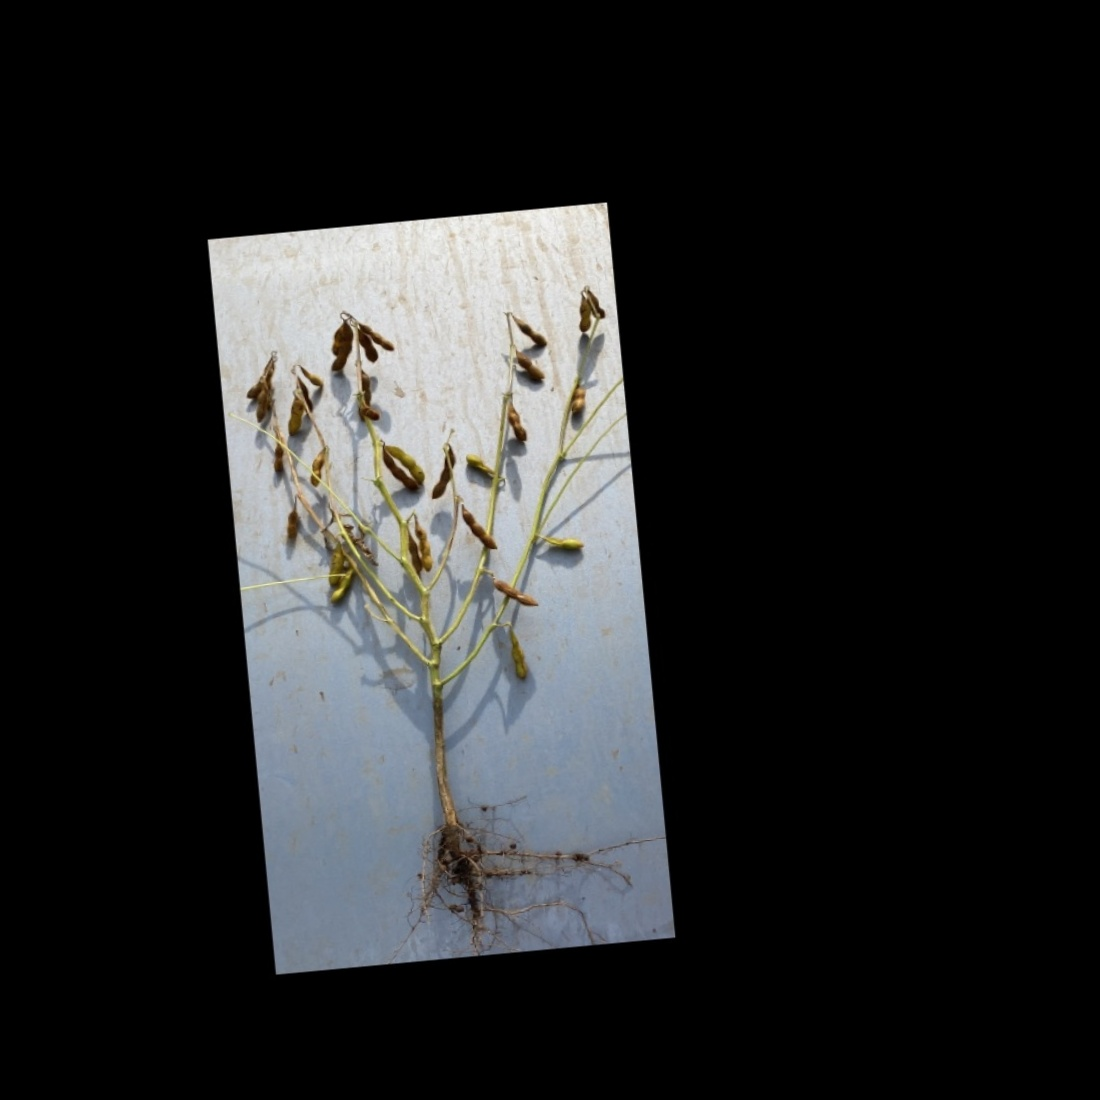pod: (419, 437, 468, 509), (377, 438, 433, 494), (371, 439, 421, 500), (502, 621, 537, 683), (353, 313, 398, 360), (458, 506, 500, 553), (491, 576, 545, 609), (511, 309, 552, 353), (277, 389, 309, 443), (496, 398, 530, 448), (351, 322, 386, 371), (512, 351, 549, 385), (279, 499, 305, 545), (413, 527, 437, 574), (306, 450, 330, 489), (270, 442, 290, 482), (571, 386, 597, 415)
soy: (226, 244, 658, 925)
